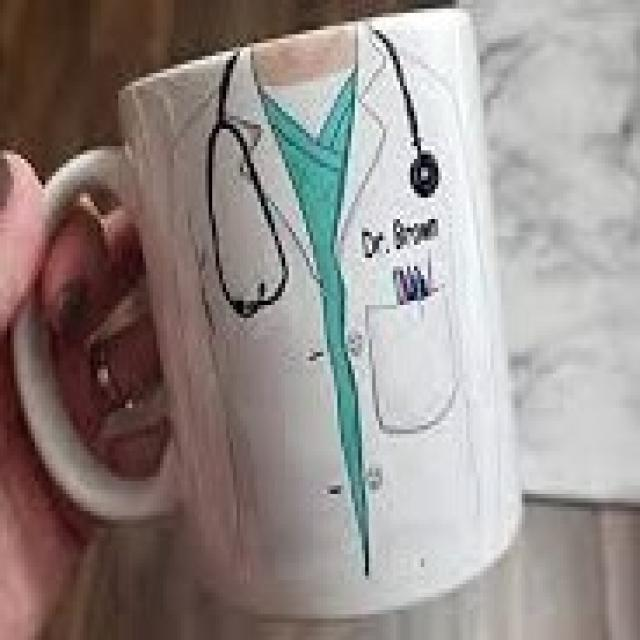taza: (14, 8, 527, 624)
